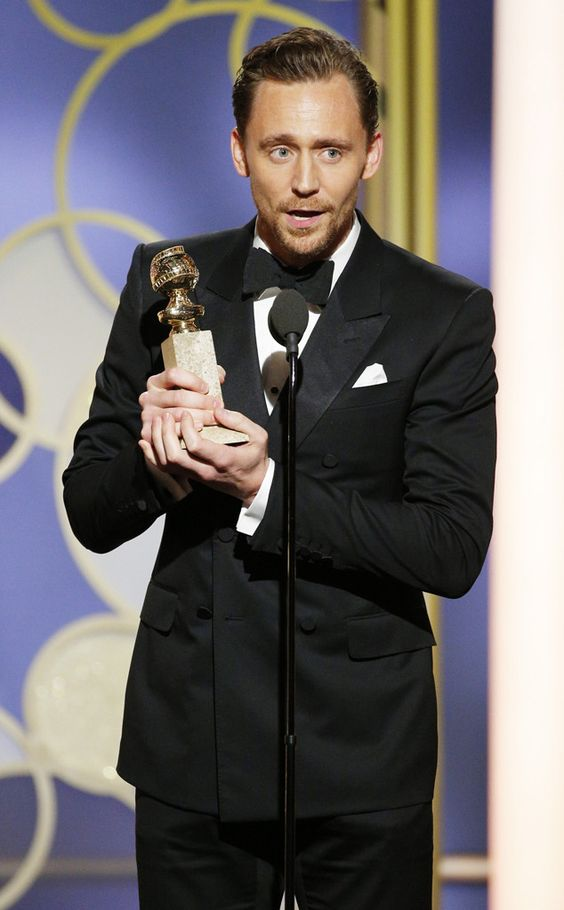hand: (144, 410, 259, 480)
